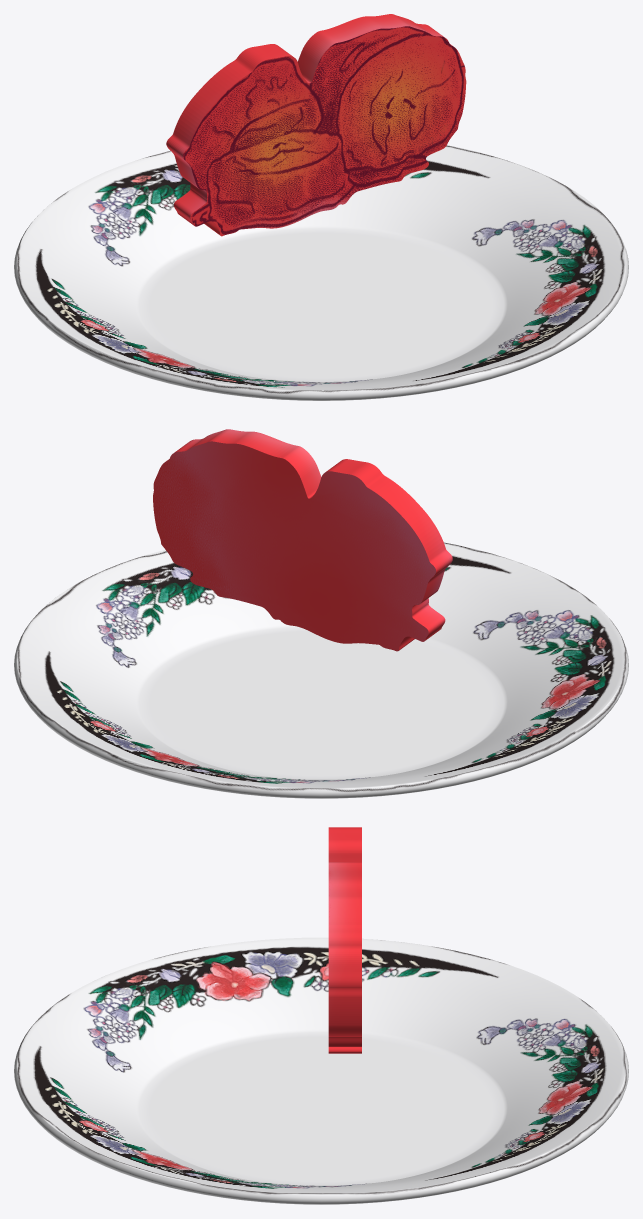
File: Platano.glb
3 renders of one model, top to bottom at view 1: azimuth 30°, elevation 25°; view 2: azimuth 150°, elevation 25°; view 3: azimuth 270°, elevation 25°, orthographic.
Parts seen in each view (by area): view 1: Plato.001, platano; view 2: Plato.001, platano; view 3: Plato.001, platano.
Part boxes in pixels (<box>): Plato.001: <box>14,145,628,400</box>; platano: <box>166,14,466,236</box>; Plato.001: <box>14,542,628,798</box>; platano: <box>153,429,452,651</box>; Plato.001: <box>14,937,628,1204</box>; platano: <box>328,827,361,1053</box>.
Bounding box in the file's own units: 18.56 × 8.96 × 18.56.
2 materials, 2 textured.
